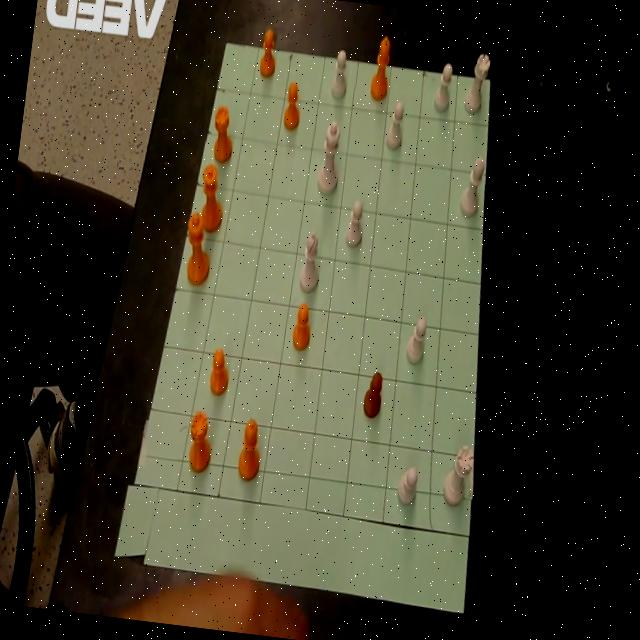orange_bishop: (196, 162, 228, 233), (236, 417, 264, 482), (209, 103, 237, 164), (369, 32, 394, 100)
orange_king: (180, 208, 217, 288)
orange_pawn: (207, 346, 232, 396), (290, 302, 313, 351), (282, 80, 304, 130), (258, 26, 279, 78), (362, 369, 384, 418)
orange_rook: (185, 411, 216, 474)
white_bishop: (458, 152, 486, 218), (298, 229, 324, 293)
white_king: (316, 117, 344, 194)
white_pawn: (404, 314, 428, 364), (432, 58, 454, 112), (384, 98, 406, 150), (344, 198, 366, 248), (395, 463, 419, 506), (330, 47, 350, 98)
white_rook: (439, 442, 474, 508), (462, 49, 490, 114)
